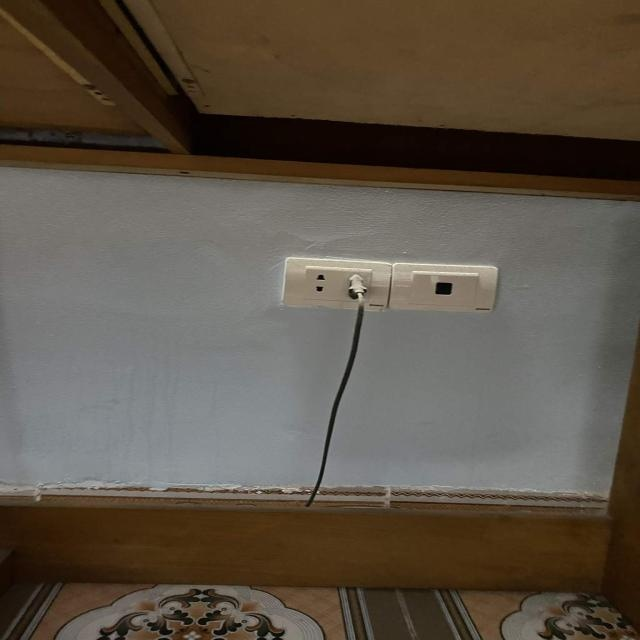outlet: (281, 256, 391, 311), (389, 262, 498, 313)
